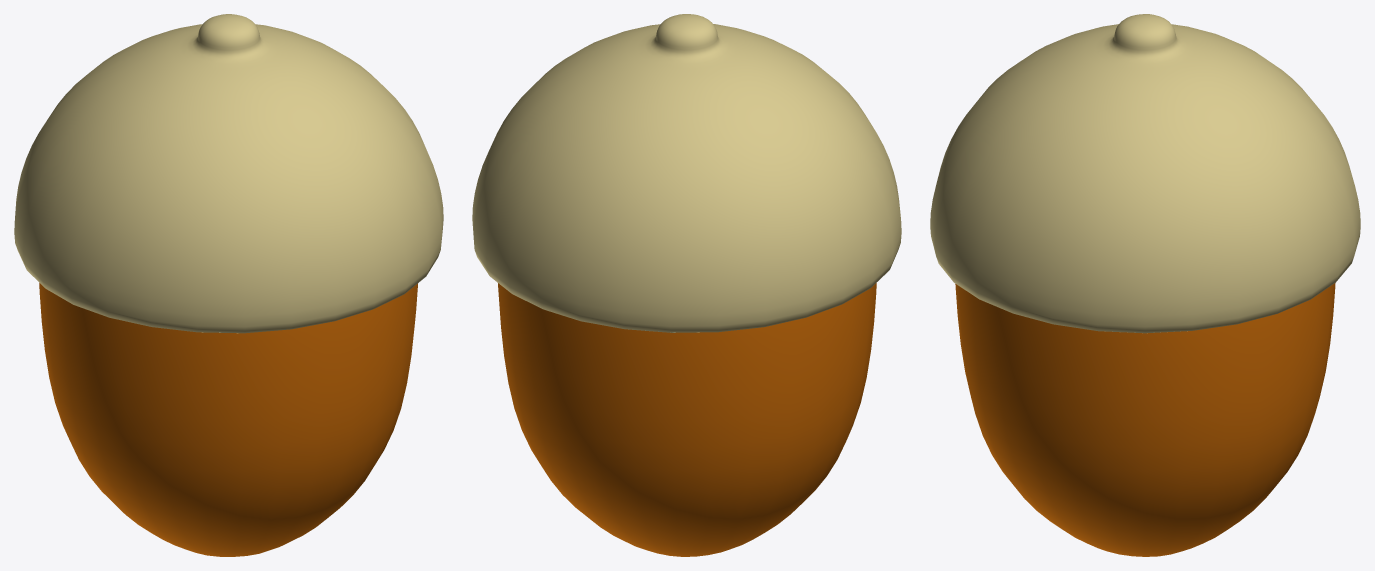
File: donguri.fbx
3 views of the same model, side by side, from view 1: azimuth 30°, elevation 25°; view 2: azimuth 150°, elevation 25°; view 3: azimuth 270°, elevation 25° (orthographic).
Visible parts, largest first — view 1: 球.001, 球; view 2: 球.001, 球; view 3: 球.001, 球.
Part boxes in pixels (bbox=[...]): 球.001: bbox=[14, 14, 443, 333]; 球: bbox=[39, 283, 417, 556]; 球.001: bbox=[472, 14, 901, 332]; 球: bbox=[498, 283, 876, 556]; 球.001: bbox=[930, 14, 1360, 333]; 球: bbox=[955, 283, 1335, 556].
Size of the model in its own units: 198 by 268 by 198.
